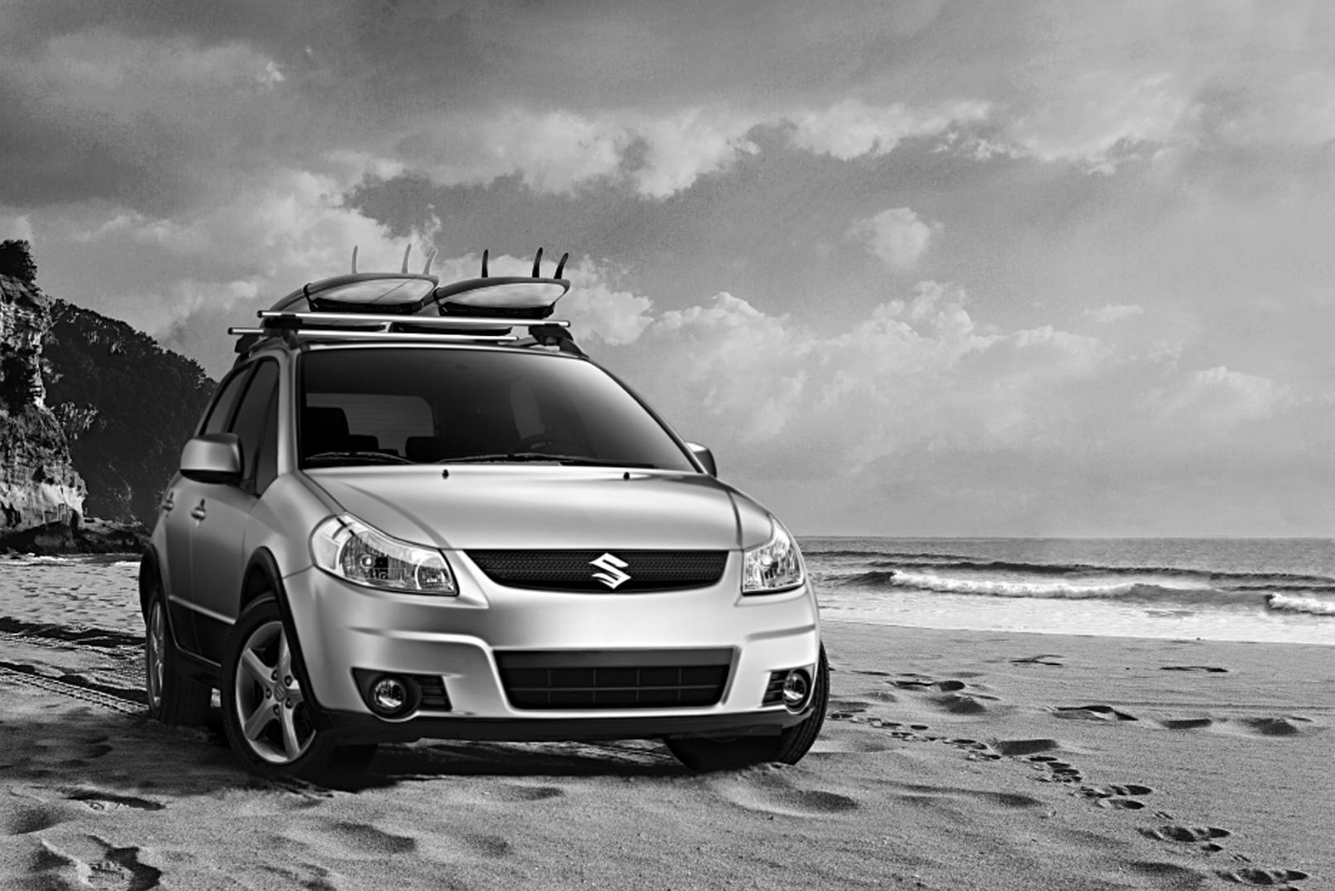car: (132, 239, 835, 783)
